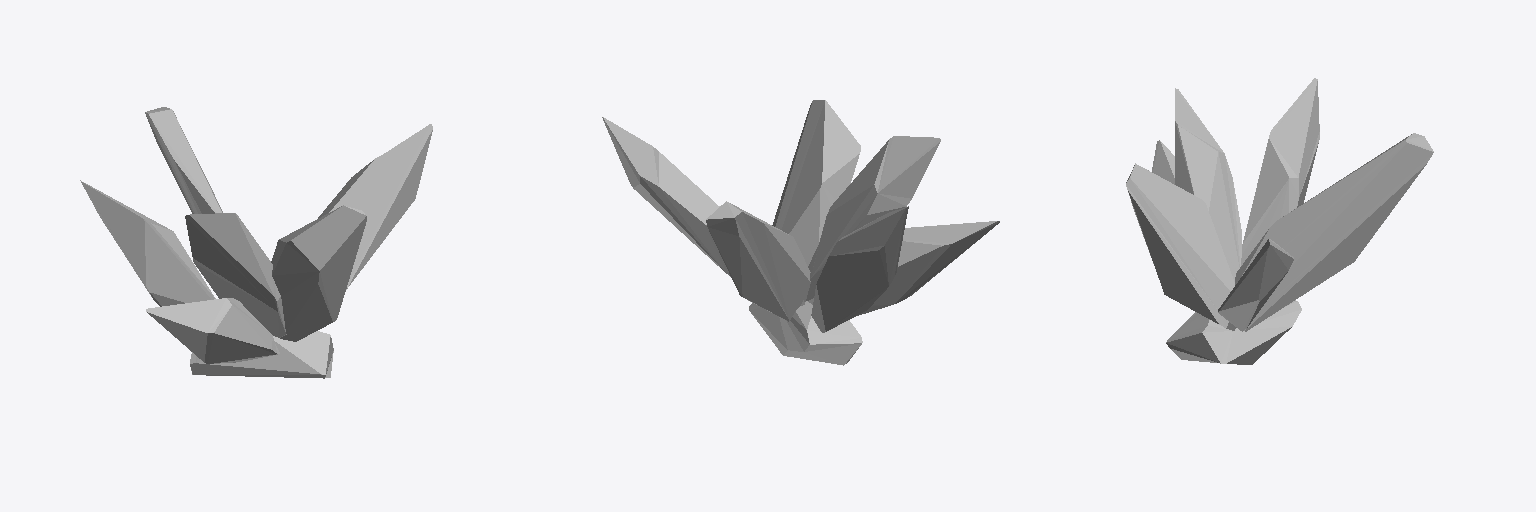
Rendered from crystal.obj.
3 views of the same model, side by side, from view 1: azimuth 30°, elevation 25°; view 2: azimuth 150°, elevation 25°; view 3: azimuth 270°, elevation 25° (orthographic).
Parts seen in each view (by area): view 1: box_object1; view 2: box_object1; view 3: box_object1.
Part boxes in pixels (left/top/right/bottom): box_object1: left=80, top=107, right=432, bottom=378; box_object1: left=602, top=100, right=999, bottom=365; box_object1: left=1126, top=78, right=1433, bottom=364.
Bounding box in the file's own units: 6.28 × 3.82 × 4.9.